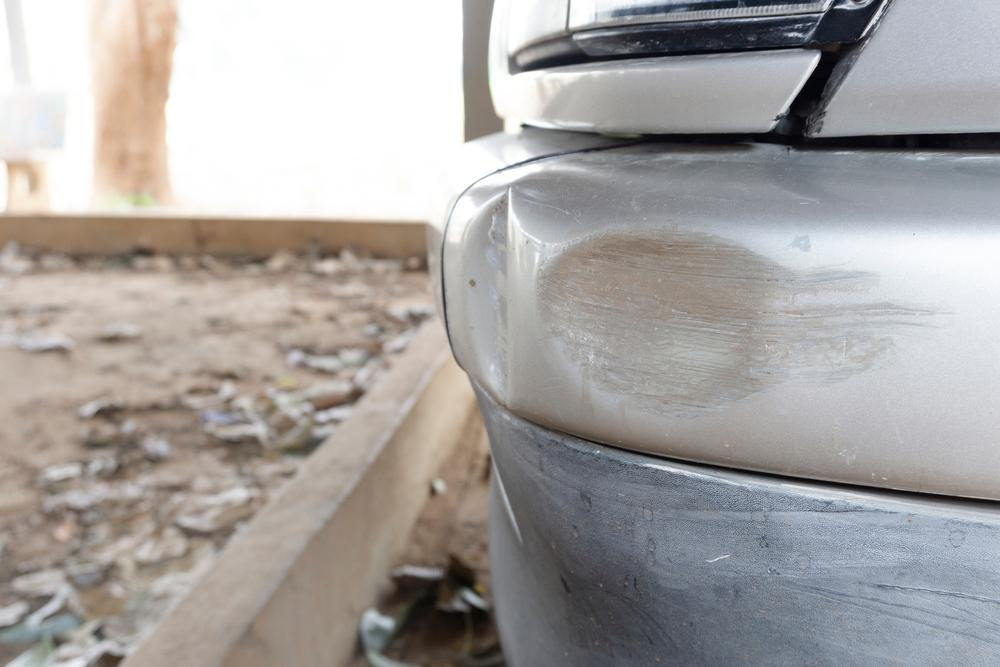dent: (541, 230, 799, 428), (460, 191, 523, 406), (512, 170, 638, 246)
scratch: (784, 263, 955, 386)
